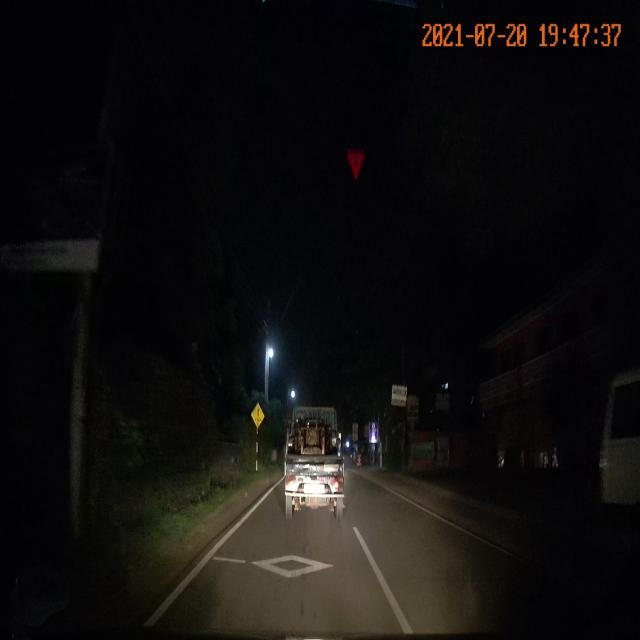Romb: (250, 553, 335, 579)
